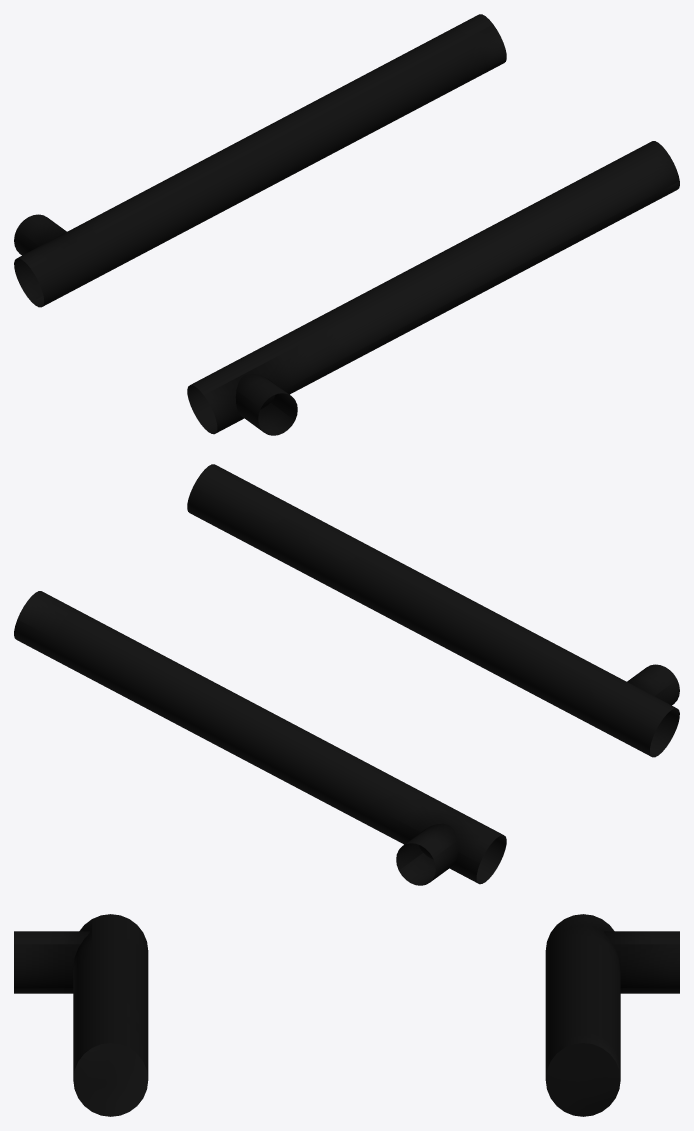
File: mst110cr-vessel_cylinder.dae
3 views of the same model, one above another, from view 1: azimuth 30°, elevation 25°; view 2: azimuth 150°, elevation 25°; view 3: azimuth 270°, elevation 25° (orthographic). The views are drawn at different scales.
Visible parts, largest first — view 1: mst110cr-cylinder; view 2: mst110cr-cylinder; view 3: mst110cr-cylinder.
Boxes of the visible parts, <box> form: mst110cr-cylinder: <box>14,14,679,435</box>; mst110cr-cylinder: <box>14,464,679,885</box>; mst110cr-cylinder: <box>14,914,679,1116</box>.
Bounding box in the file's own units: 1.08 × 0.9587 × 0.3887.
1 material, 1 textured.
